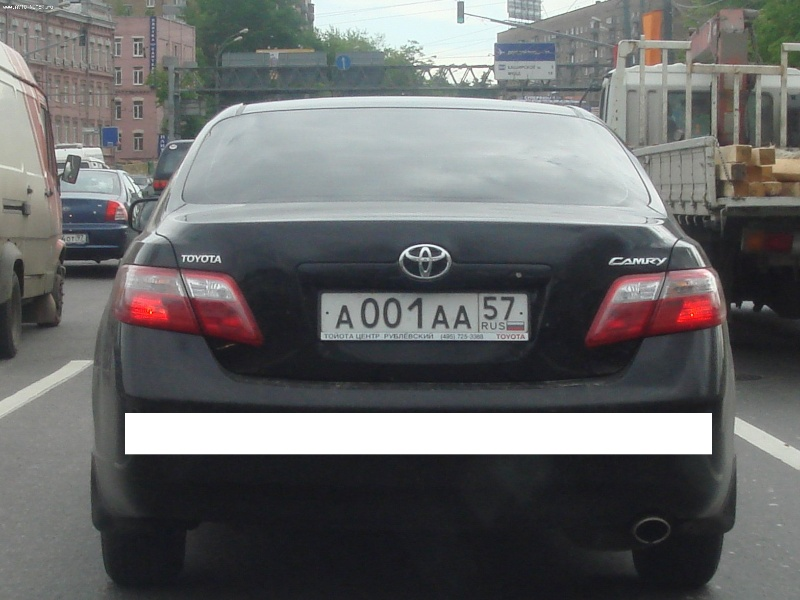car: (90, 96, 738, 600), (1, 38, 66, 359), (57, 167, 143, 265)
plate: (323, 293, 526, 332)
